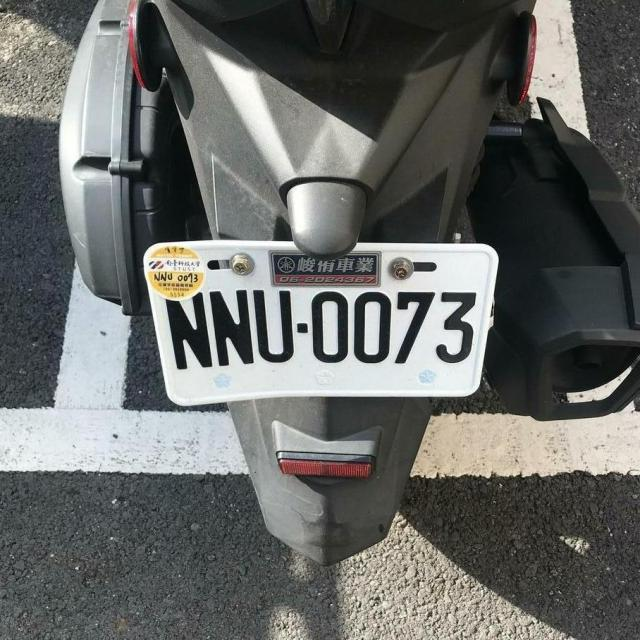W: (139, 233, 498, 408)
